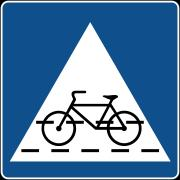Cycle Crossing: (15, 10, 169, 171)
